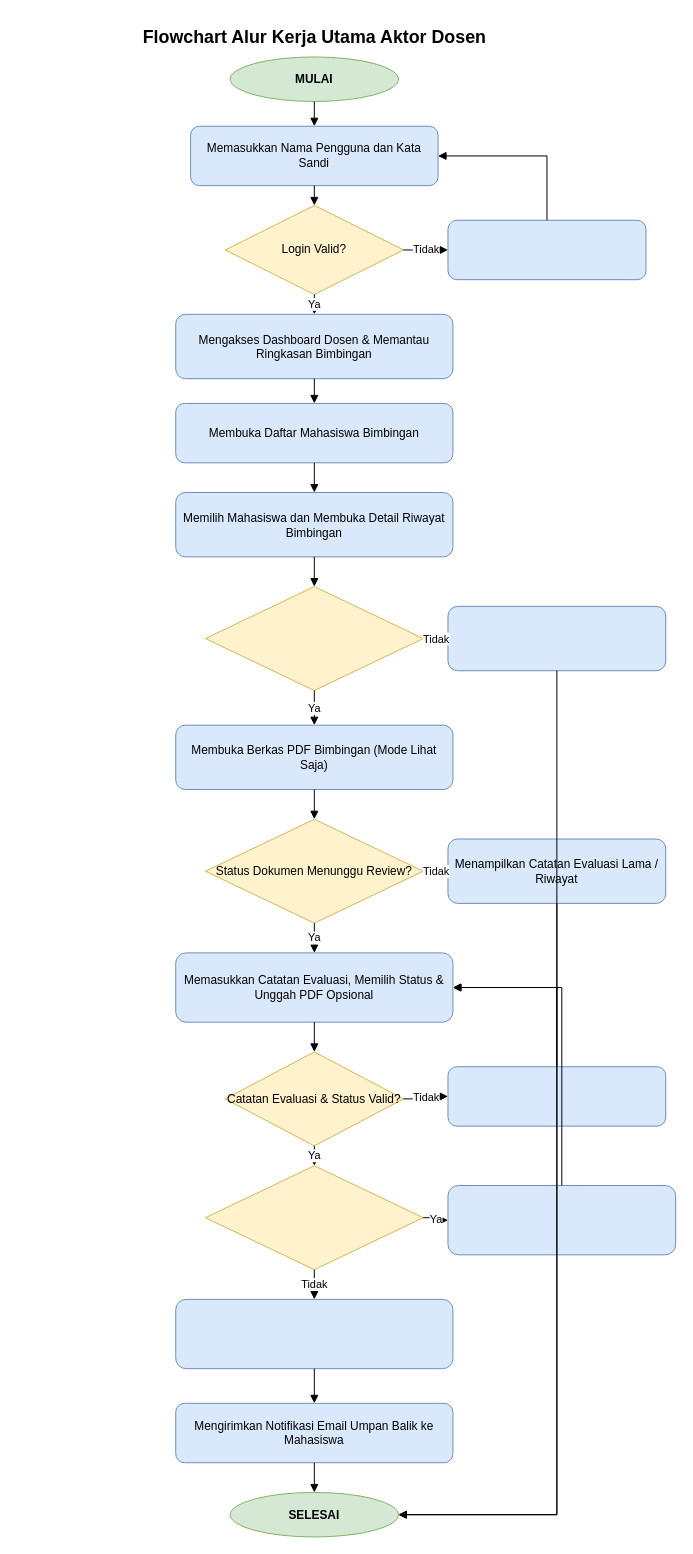
This 693x1554 diagram has some shape labels left out. The box of each missing label's shape, as (x1, y1, x2, y2) in pixels:
Data Bimbingan Ditemukan?: (204, 586, 423, 691)
Menampilkan Pesan Autentikasi Gagal: (447, 219, 646, 280)
Menampilkan Pesan Bimbingan Tidak Ditemukan: (447, 605, 666, 671)
Menampilkan Pesan Kesalahan Syarat Minimal Bimbingan Belum Terpenuhi: (447, 1185, 676, 1255)
Menampilkan Pesan Kesalahan Validasi: (447, 1066, 666, 1126)
Menyimpan Hasil Review & Memperbarui Progres (jika Lanjut Bab): (175, 1298, 453, 1369)
Status yang Dipilih = Persetujuan Sempro?: (204, 1165, 423, 1270)
